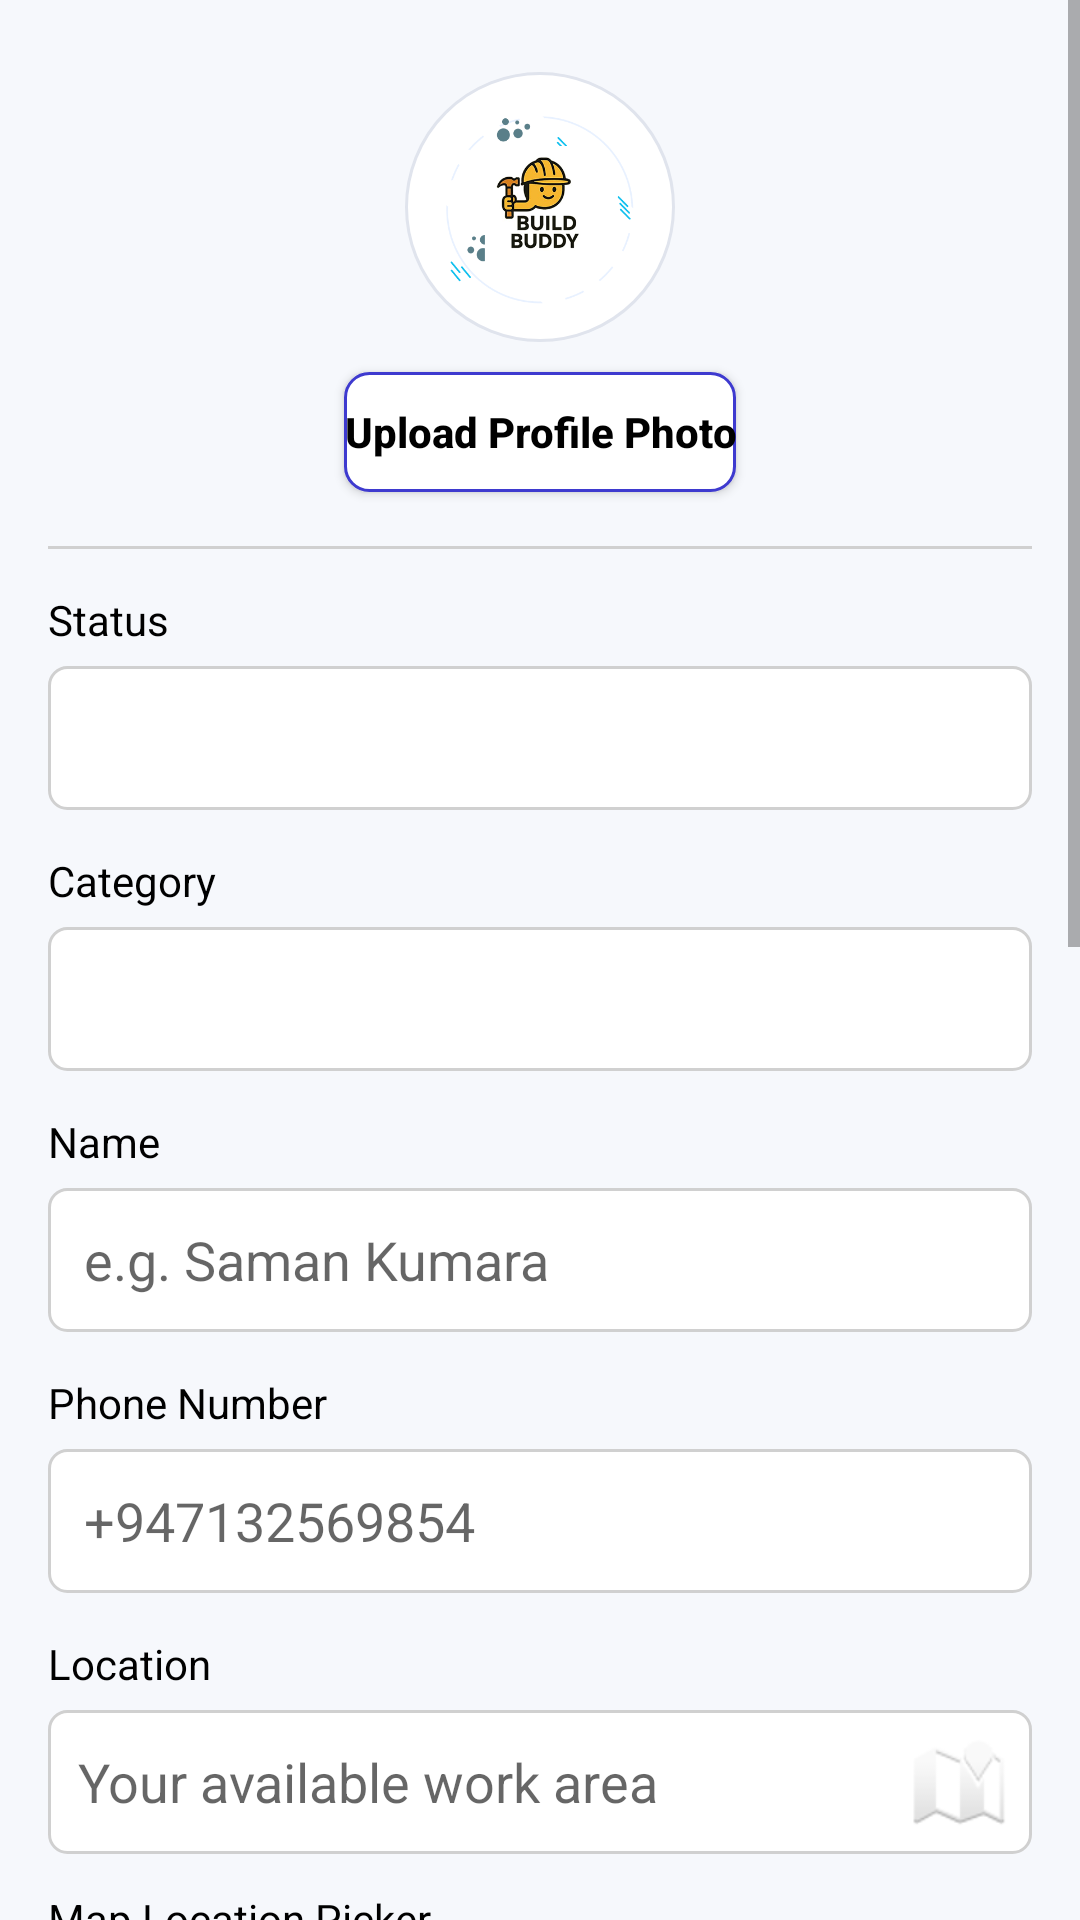

Where icons sit on this 1080 × 1920 app screen, as rect(x1, y1, x2, y2):
Open map: rect(914, 1751, 1004, 1824)
